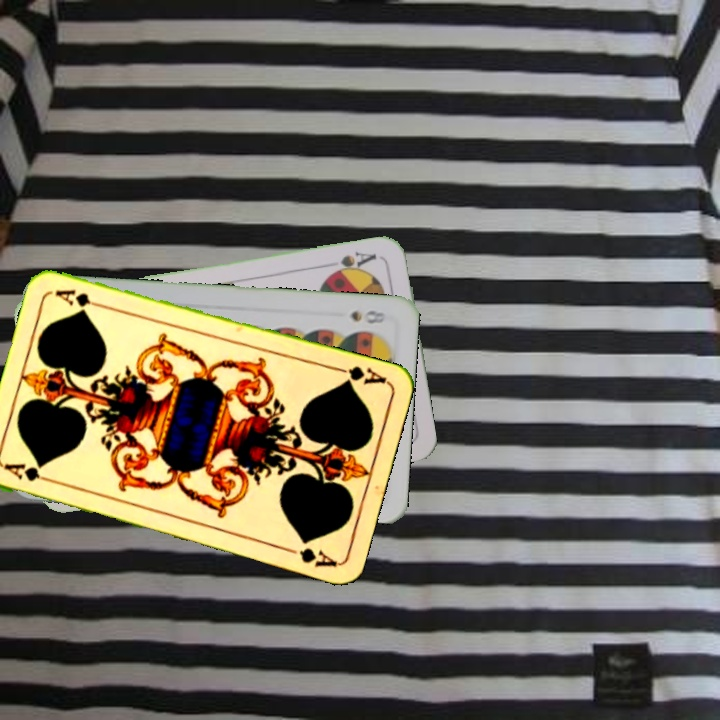GA: (1, 459, 59, 487), (330, 361, 389, 388)
S8: (347, 306, 389, 327)
SA: (326, 247, 379, 278)
